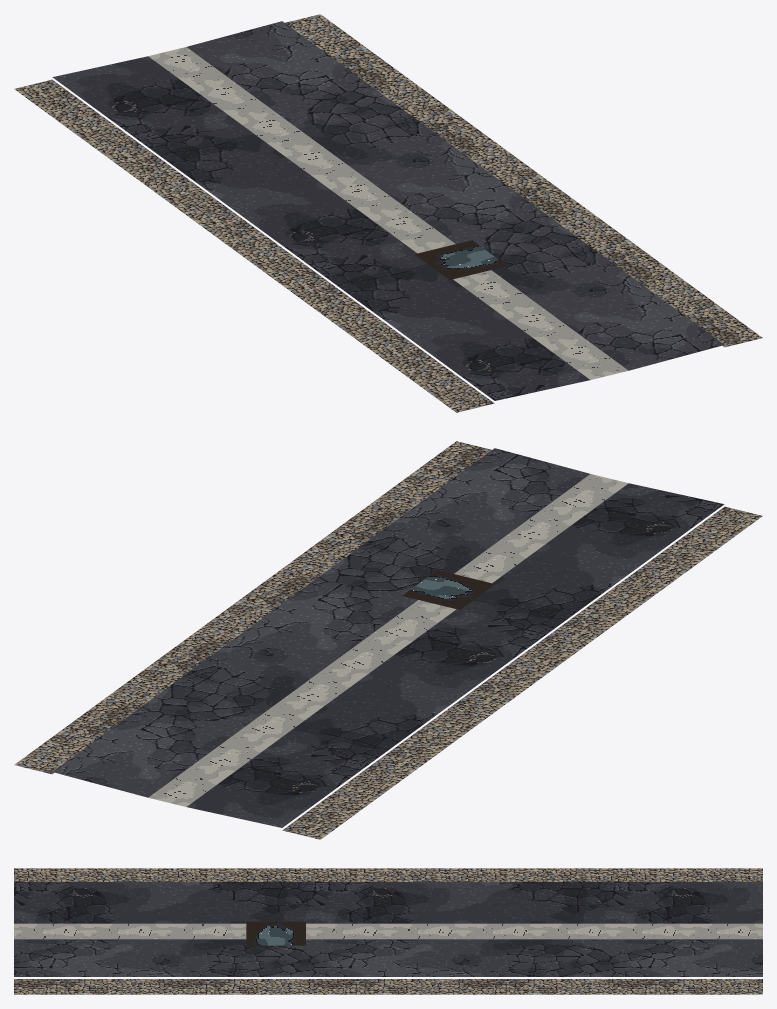
The model's file is RD_Alley_4x10m.obj.
3 views of the same model, one above another, from view 1: azimuth 30°, elevation 25°; view 2: azimuth 150°, elevation 25°; view 3: azimuth 270°, elevation 25° (orthographic). The views are drawn at different scales.
Visible parts, largest first — view 1: RD_Alley_4x10m_Mesh_M_Road_AsphaltCracked, RD_Alley_4x10m_Mesh_M_Road_Gravel, RD_Alley_4x10m_Mesh_M_Road_CurbConcrete, RD_Alley_4x10m_Mesh_M_Town_Puddle; view 2: RD_Alley_4x10m_Mesh_M_Road_AsphaltCracked, RD_Alley_4x10m_Mesh_M_Road_Gravel, RD_Alley_4x10m_Mesh_M_Road_CurbConcrete, RD_Alley_4x10m_Mesh_M_Town_Puddle; view 3: RD_Alley_4x10m_Mesh_M_Road_AsphaltCracked, RD_Alley_4x10m_Mesh_M_Road_Gravel, RD_Alley_4x10m_Mesh_M_Road_CurbConcrete, RD_Alley_4x10m_Mesh_M_Town_Puddle.
Part boxes in pixels (box(x1,y1,x2,y2)): RD_Alley_4x10m_Mesh_M_Road_AsphaltCracked: box(52, 21, 723, 400); RD_Alley_4x10m_Mesh_M_Road_Gravel: box(14, 14, 762, 412); RD_Alley_4x10m_Mesh_M_Road_CurbConcrete: box(148, 47, 628, 379); RD_Alley_4x10m_Mesh_M_Town_Puddle: box(414, 240, 506, 280); RD_Alley_4x10m_Mesh_M_Road_AsphaltCracked: box(53, 448, 724, 827); RD_Alley_4x10m_Mesh_M_Road_Gravel: box(14, 441, 762, 839); RD_Alley_4x10m_Mesh_M_Road_CurbConcrete: box(148, 474, 628, 806); RD_Alley_4x10m_Mesh_M_Town_Puddle: box(402, 570, 495, 609); RD_Alley_4x10m_Mesh_M_Road_AsphaltCracked: box(14, 882, 762, 976); RD_Alley_4x10m_Mesh_M_Road_Gravel: box(14, 868, 762, 994); RD_Alley_4x10m_Mesh_M_Road_CurbConcrete: box(14, 923, 762, 939); RD_Alley_4x10m_Mesh_M_Town_Puddle: box(246, 921, 305, 945).
Bounding box in the file's own units: 4 × 0.03 × 10.
Materials: 4 (4 with a texture image).
